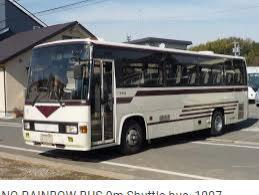bus: (23, 36, 251, 155)
